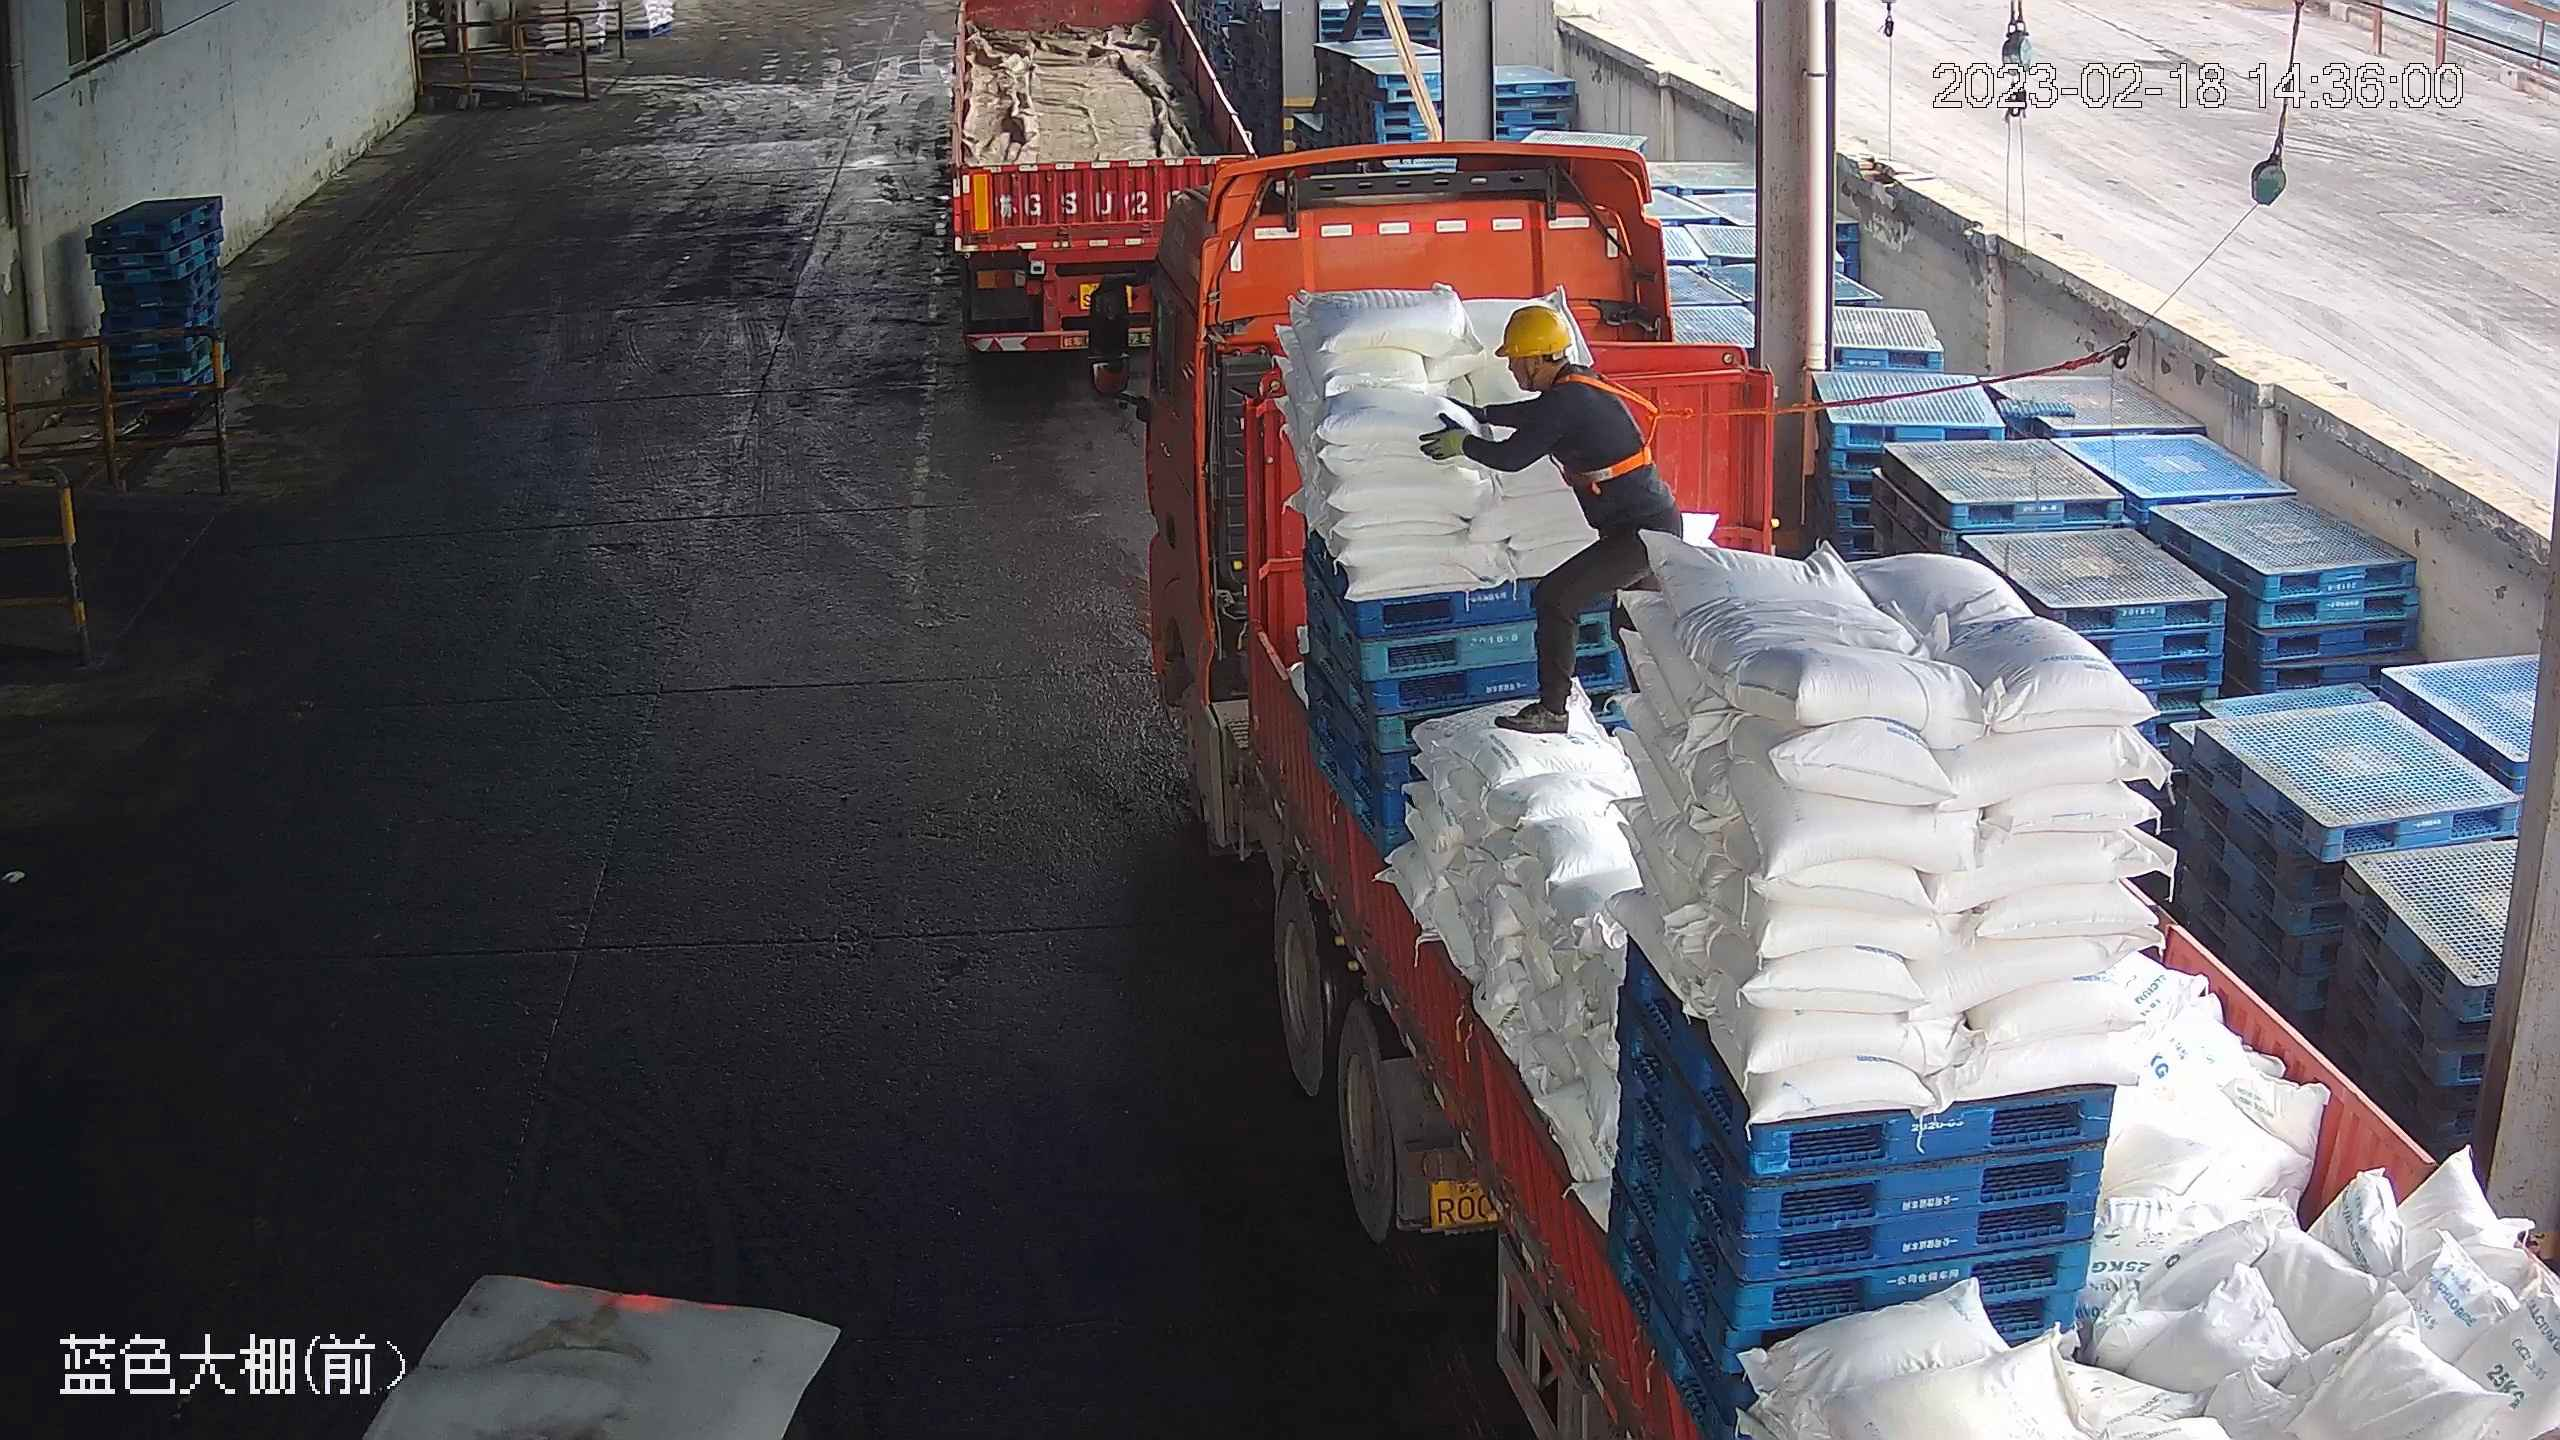belt: (1078, 137, 2560, 1440), (939, 1, 1264, 378), (1560, 363, 1683, 493)
head: (1491, 306, 1642, 463)
helmet: (1493, 306, 1572, 359)
people: (1416, 305, 1682, 732)
